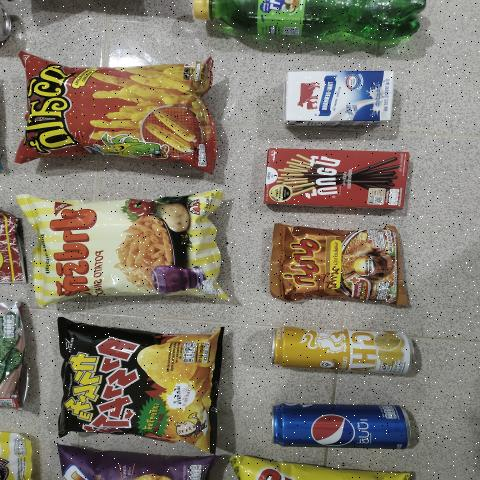fanta_green: (183, 0, 419, 51)
karamujo: (59, 326, 214, 443)
mama: (257, 224, 392, 304)
paprika: (37, 196, 215, 301)
pepsi_blue: (263, 404, 415, 450)
pokki: (264, 150, 407, 204)
singha_yellow: (267, 324, 424, 372)
thai_denmark: (280, 64, 396, 127)
twisco: (21, 66, 201, 163)
